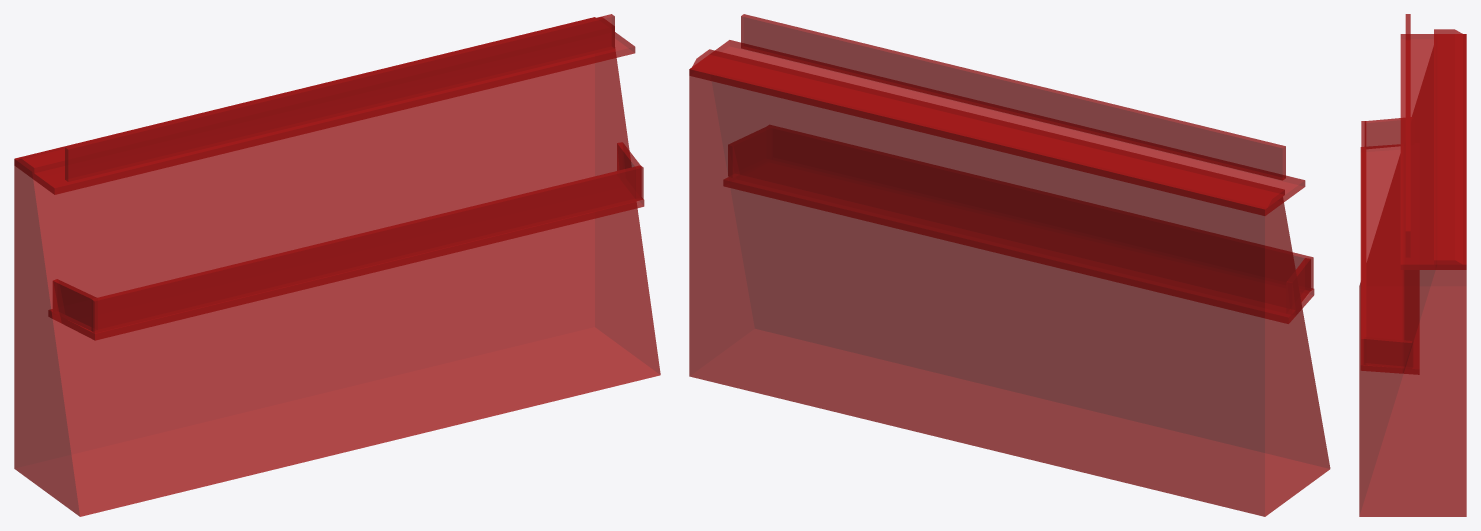
File: SM_Env_Port_Drydock_Small_01_Collision.fbx
The picture shows the model from 3 angles, left to right: view 1: azimuth 30°, elevation 25°; view 2: azimuth 150°, elevation 25°; view 3: azimuth 270°, elevation 25°; orthographic projection. The views are drawn at different scales.
Parts seen in each view (by area): view 1: SM_Env_Port_Drydock_Small_01_Collision; view 2: SM_Env_Port_Drydock_Small_01_Collision; view 3: SM_Env_Port_Drydock_Small_01_Collision.
Part boxes in pixels (<box>): SM_Env_Port_Drydock_Small_01_Collision: <box>14,14,660,516</box>; SM_Env_Port_Drydock_Small_01_Collision: <box>689,14,1330,516</box>; SM_Env_Port_Drydock_Small_01_Collision: <box>1359,14,1466,516</box>.
Bounding box in the file's own units: 1000 × 564 × 197.
